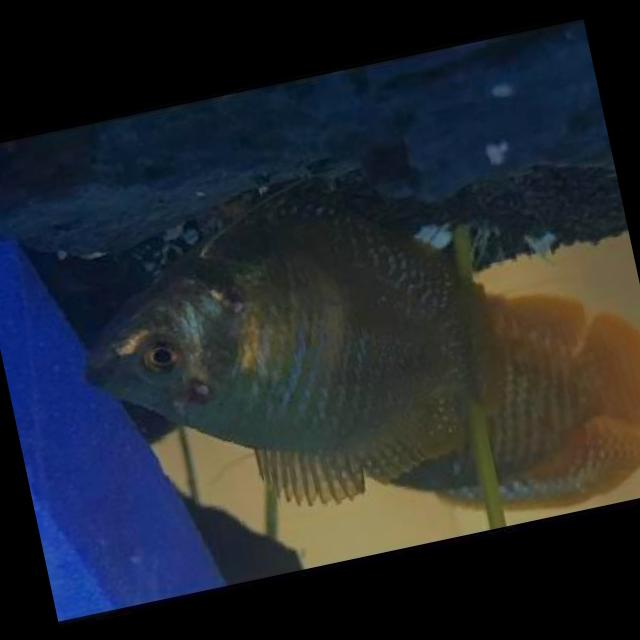Gourami: (59, 170, 530, 544)
